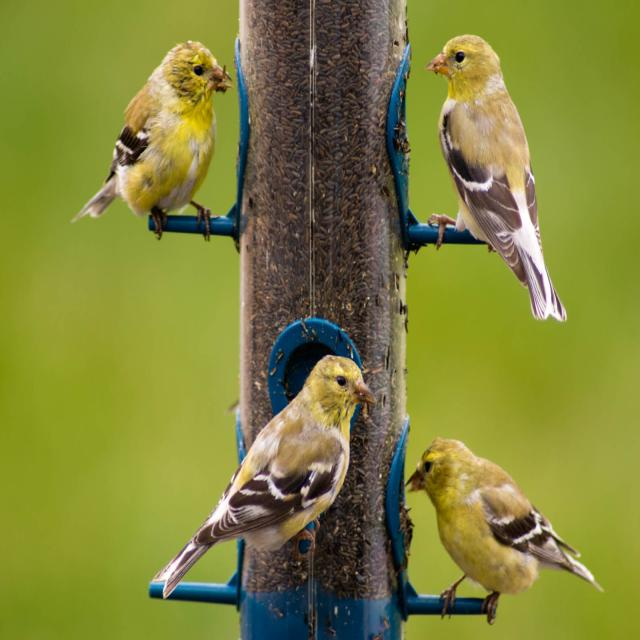bird: (155, 350, 382, 599), (400, 435, 603, 626), (426, 31, 554, 327), (79, 44, 239, 240)
